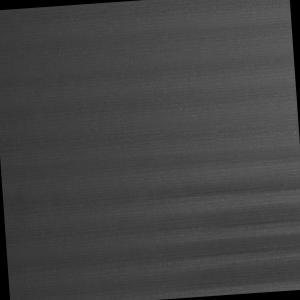Wrinkle: (3, 135, 300, 300)
